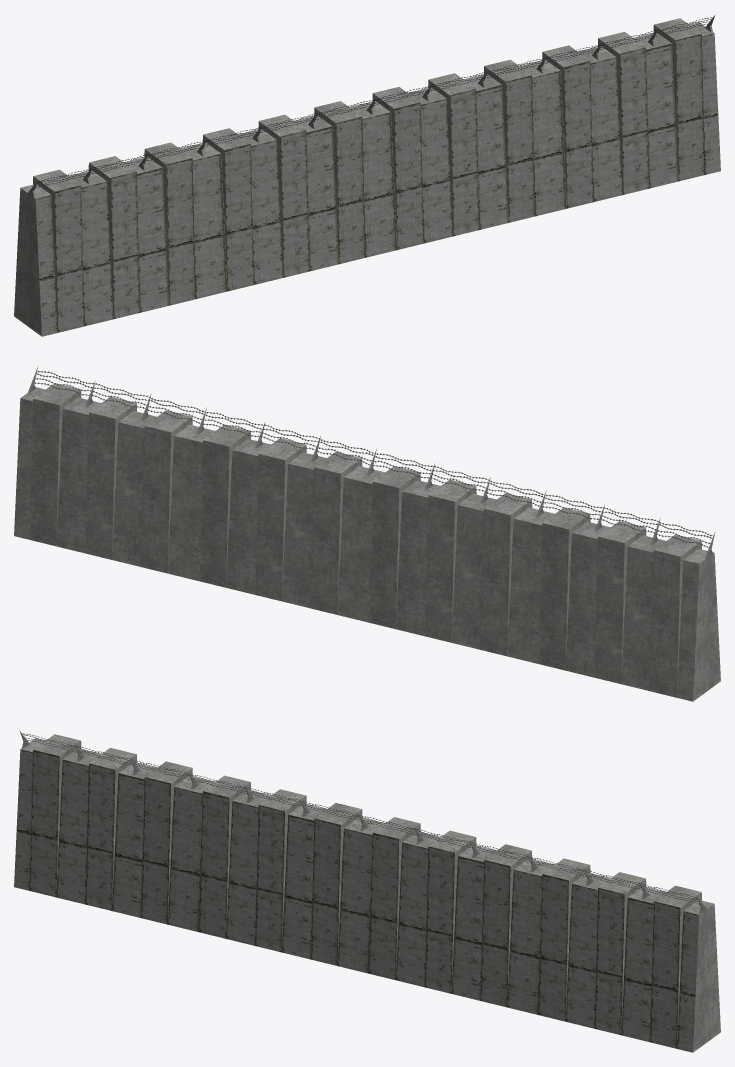
Rendered from mun_all_military_wall_strong_impl_32_s01_l1.fbx.
The picture shows the model from 3 angles, top to bottom: view 1: azimuth 30°, elevation 25°; view 2: azimuth 150°, elevation 25°; view 3: azimuth 330°, elevation 25°; orthographic projection.
Parts seen in each view (by area): view 1: mesh_node; view 2: mesh_node; view 3: mesh_node.
Part boxes in pixels (bbox=[...]): mesh_node: bbox=[14, 15, 720, 336]; mesh_node: bbox=[14, 367, 720, 701]; mesh_node: bbox=[14, 731, 720, 1052].
Size of the model in its own units: 32 by 6.93 by 2.29.
